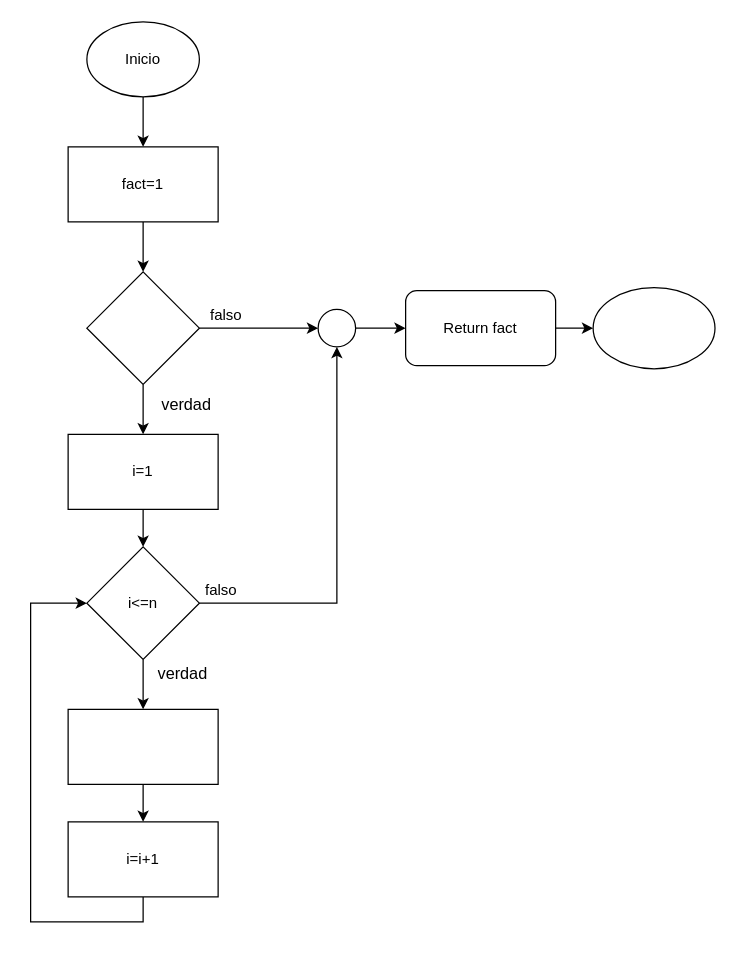
Image size: 738x954. Some labels were removed from this diagram. The box of each missing label's shape, as (x1, y1, x2, y2) in pixels:
fact=fact * i: (67, 708, 218, 784)
Fin: (592, 286, 715, 369)
n != 0: (86, 271, 199, 384)
